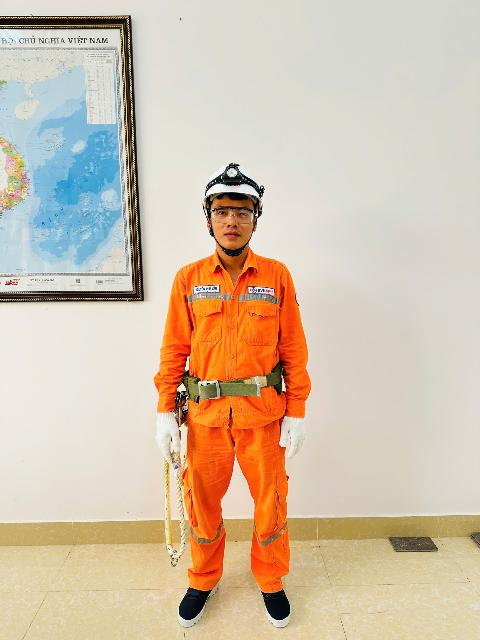gloves: (144, 403, 187, 475), (268, 410, 318, 462)
harness: (158, 352, 293, 412)
helmet: (193, 157, 268, 212)
shoes: (170, 568, 222, 631), (249, 578, 301, 635)
